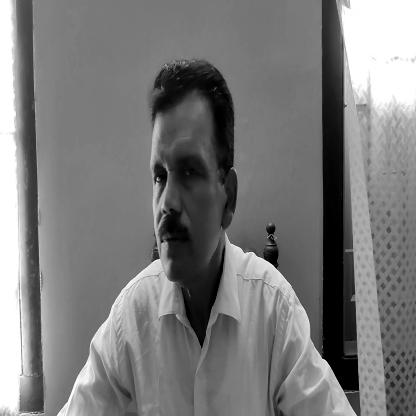Distracted: (150, 70, 236, 282)
